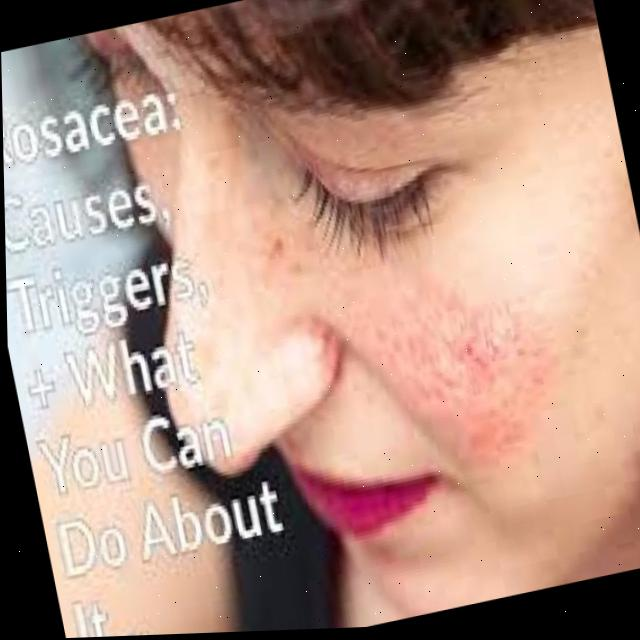Rosacea: (380, 272, 569, 457)
